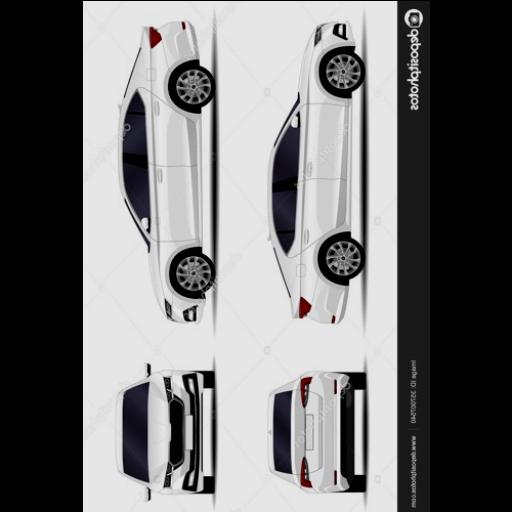sedan: (269, 22, 365, 322), (120, 20, 214, 322), (116, 361, 214, 499), (269, 372, 365, 492)
